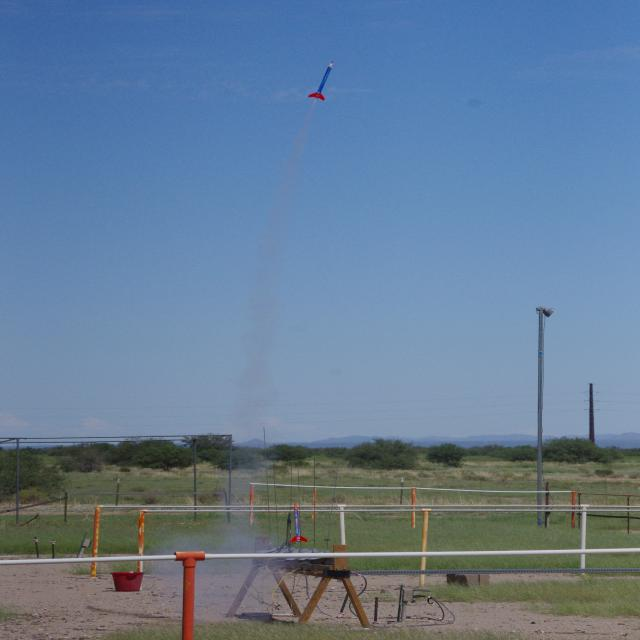Rocket: (308, 60, 336, 100), (290, 502, 308, 544), (281, 513, 295, 548)
